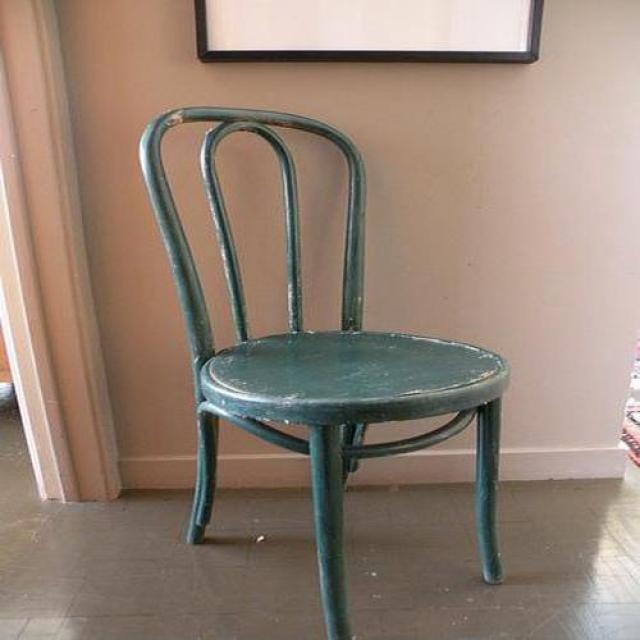chair: (141, 108, 512, 640)
